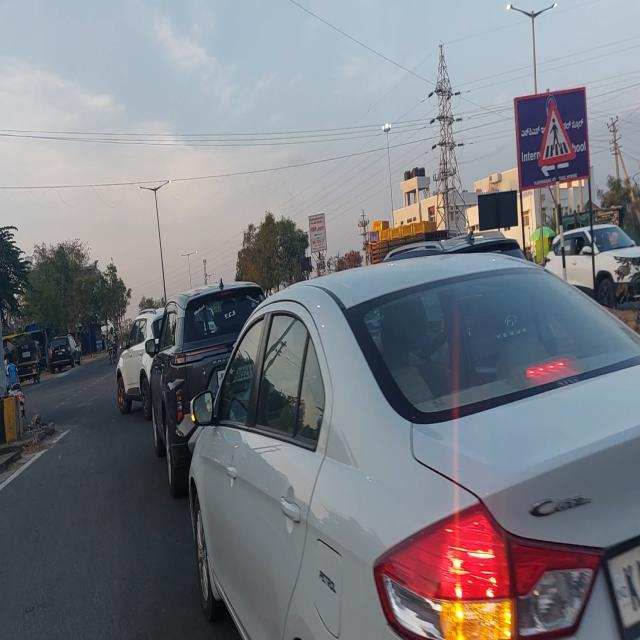bien_cam: (537, 98, 576, 168)
